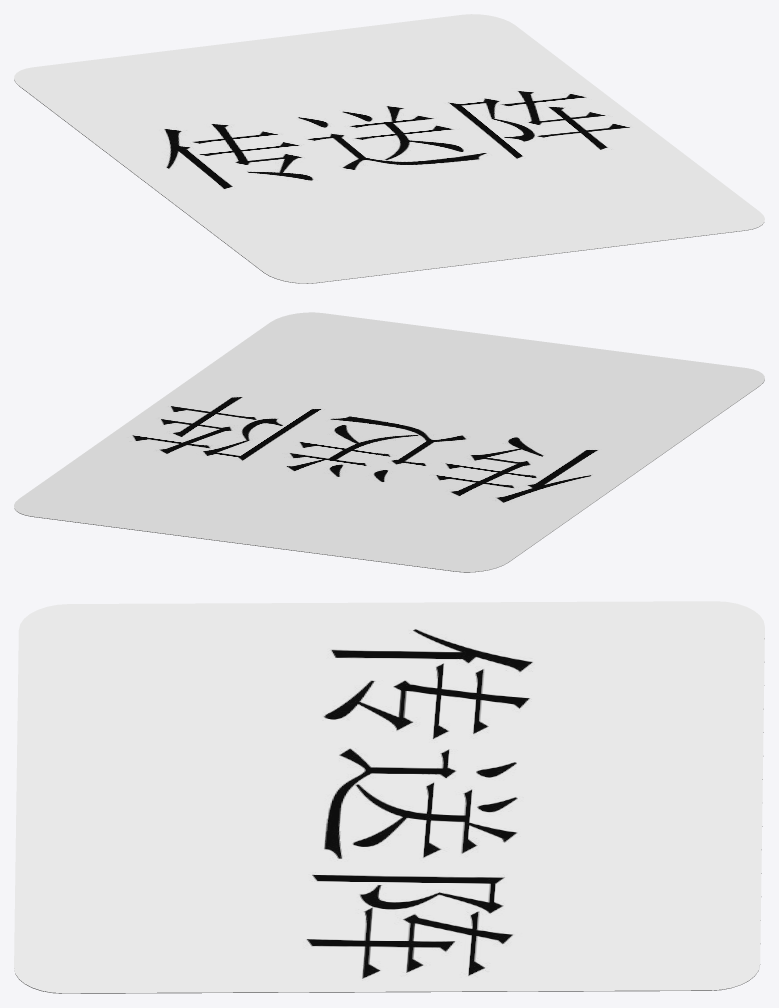
File: ChuanSongZhen.FBX
The picture shows the model from 3 angles, top to bottom: view 1: azimuth 30°, elevation 25°; view 2: azimuth 150°, elevation 25°; view 3: azimuth 270°, elevation 25°; orthographic projection. The views are drawn at different scales.
Visible parts, largest first — view 1: Rectangle001; view 2: Rectangle001; view 3: Rectangle001.
Boxes of the visible parts, <box> form: Rectangle001: <box>14,14,764,283</box>; Rectangle001: <box>14,312,764,572</box>; Rectangle001: <box>14,601,764,993</box>.
Size of the model in its own units: 60.06 by 7.23 by 60.38.
